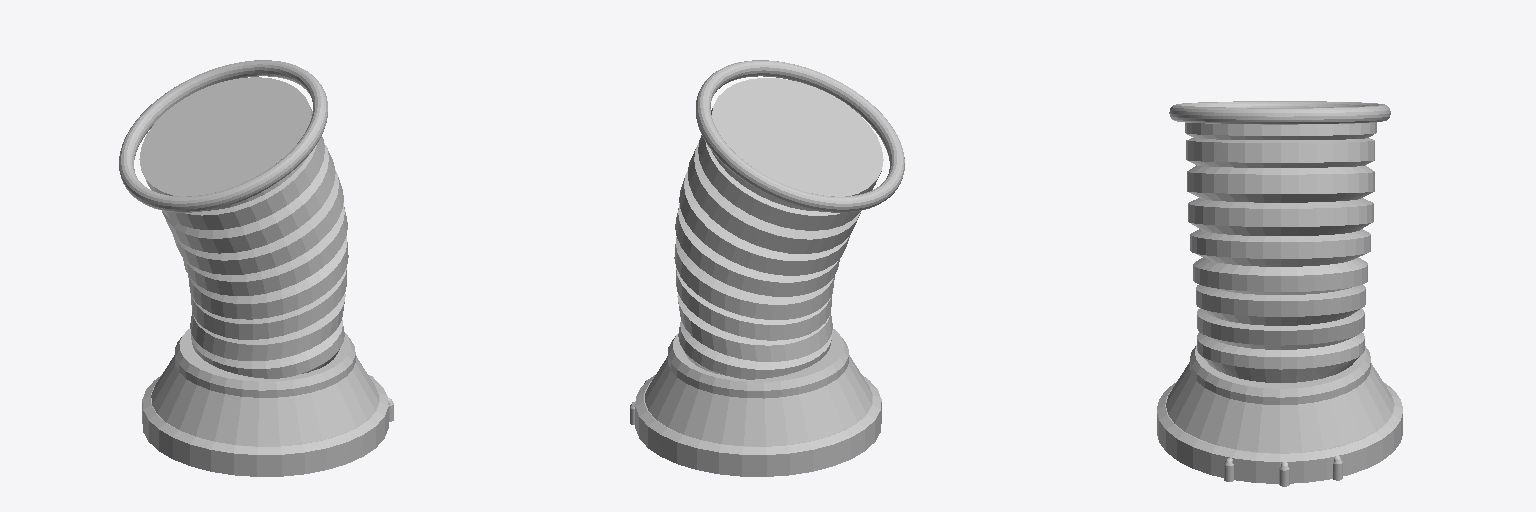
Rendered from pata1_Goddard.obj.
The picture shows the model from 3 angles: view 1: azimuth 30°, elevation 25°; view 2: azimuth 150°, elevation 25°; view 3: azimuth 270°, elevation 25°; orthographic projection.
Parts seen in each view (by area): view 1: C_rculo_005_C_rculo_006, C_rculo_018_C_rculo_019, C_rculo_019_C_rculo_020, C_rculo_002, C_rculo_017_C_rculo_018; view 2: C_rculo_005_C_rculo_006, C_rculo_018_C_rculo_019, C_rculo_019_C_rculo_020, C_rculo_002, C_rculo_017_C_rculo_018; view 3: C_rculo_005_C_rculo_006, C_rculo_018_C_rculo_019, C_rculo_019_C_rculo_020, C_rculo_002, C_rculo_017_C_rculo_018, Cilindro_004_Cilindro_007.
Part boxes in pixels (x1,y1,x2,y2): C_rculo_005_C_rculo_006: (139, 77, 348, 378); C_rculo_018_C_rculo_019: (151, 355, 378, 446); C_rculo_019_C_rculo_020: (142, 375, 388, 476); C_rculo_002: (119, 60, 327, 212); C_rculo_017_C_rculo_018: (175, 329, 355, 397); C_rculo_005_C_rculo_006: (674, 78, 883, 379); C_rculo_018_C_rculo_019: (645, 355, 872, 446); C_rculo_019_C_rculo_020: (635, 375, 881, 476); C_rculo_002: (696, 60, 904, 212); C_rculo_017_C_rculo_018: (668, 329, 848, 398); C_rculo_005_C_rculo_006: (1185, 122, 1376, 382); C_rculo_018_C_rculo_019: (1166, 362, 1393, 452); C_rculo_019_C_rculo_020: (1157, 382, 1402, 483); C_rculo_002: (1169, 101, 1390, 124); C_rculo_017_C_rculo_018: (1190, 345, 1370, 404); Cilindro_004_Cilindro_007: (1224, 456, 1342, 486).
Bounding box in the file's own units: 1.17 × 1.58 × 1.03.